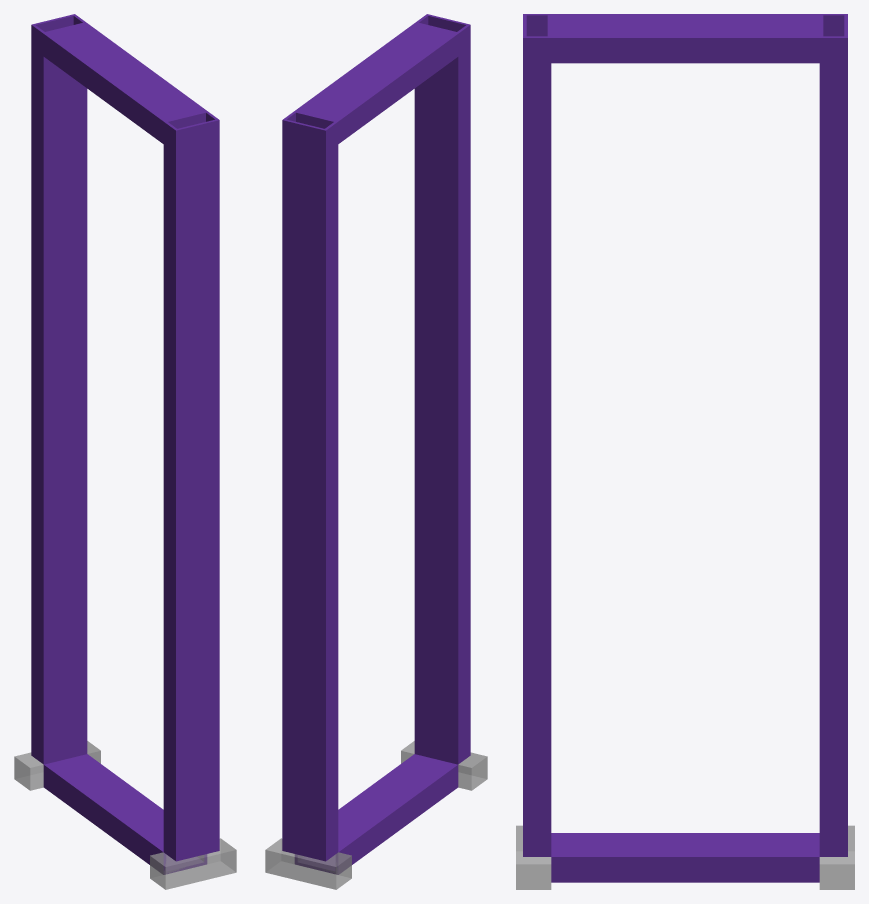
3 views of the same model, side by side, from view 1: azimuth 30°, elevation 25°; view 2: azimuth 150°, elevation 25°; view 3: azimuth 270°, elevation 25° (orthographic). The views are drawn at different scales.
Visible parts, largest first — view 1: 0204 - perfil 32" (×2), 0203 - perfil 9" (×2), 205 - Elevator Bearing mock (×2); view 2: 0204 - perfil 32" (×2), 0203 - perfil 9" (×2), 205 - Elevator Bearing mock (×2); view 3: 0204 - perfil 32" (×2), 0203 - perfil 9" (×2), 205 - Elevator Bearing mock (×2).
Part boxes in pixels (bbox=[...]): 0204 - perfil 32" (×2): bbox=[31, 14, 219, 861]; 0203 - perfil 9" (×2): bbox=[43, 23, 207, 874]; 205 - Elevator Bearing mock (×2): bbox=[14, 741, 236, 889]; 0204 - perfil 32" (×2): bbox=[282, 14, 470, 861]; 0203 - perfil 9" (×2): bbox=[294, 23, 458, 874]; 205 - Elevator Bearing mock (×2): bbox=[265, 741, 487, 889]; 0204 - perfil 32" (×2): bbox=[523, 14, 847, 856]; 0203 - perfil 9" (×2): bbox=[551, 14, 819, 882]; 205 - Elevator Bearing mock (×2): bbox=[516, 825, 854, 889].
Size of the model in its own units: 0.0825 by 0.8382 by 0.3048.
